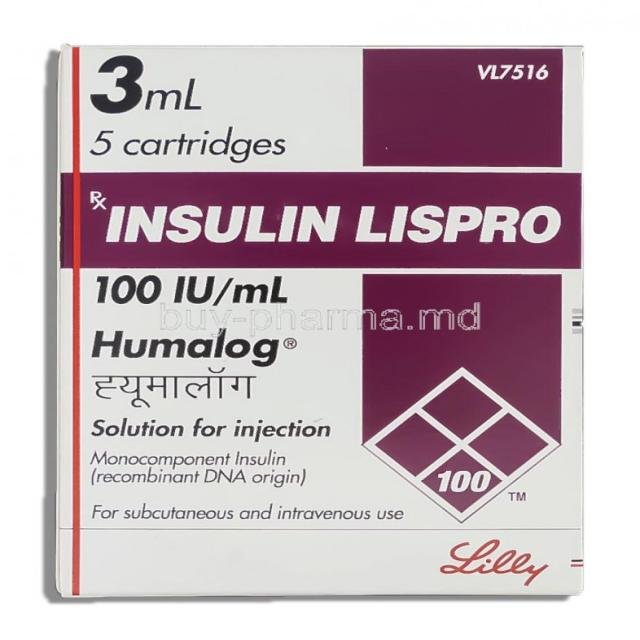Medicine-name: (107, 198, 563, 259)
